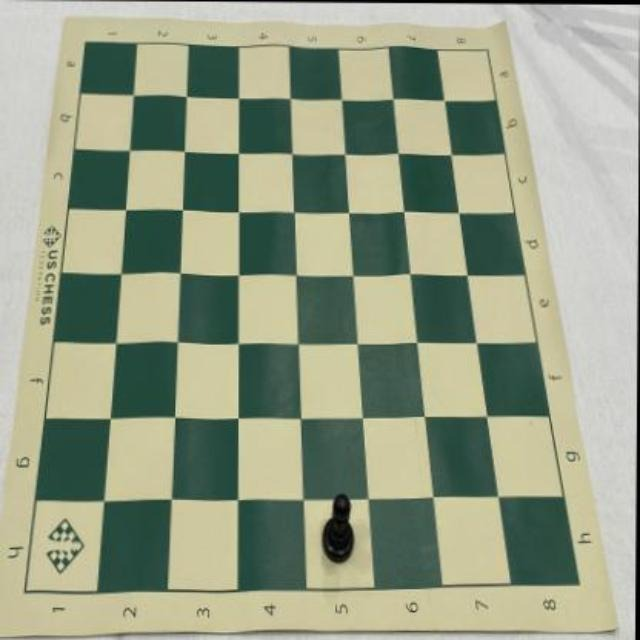black-pawn: (320, 493, 355, 565)
